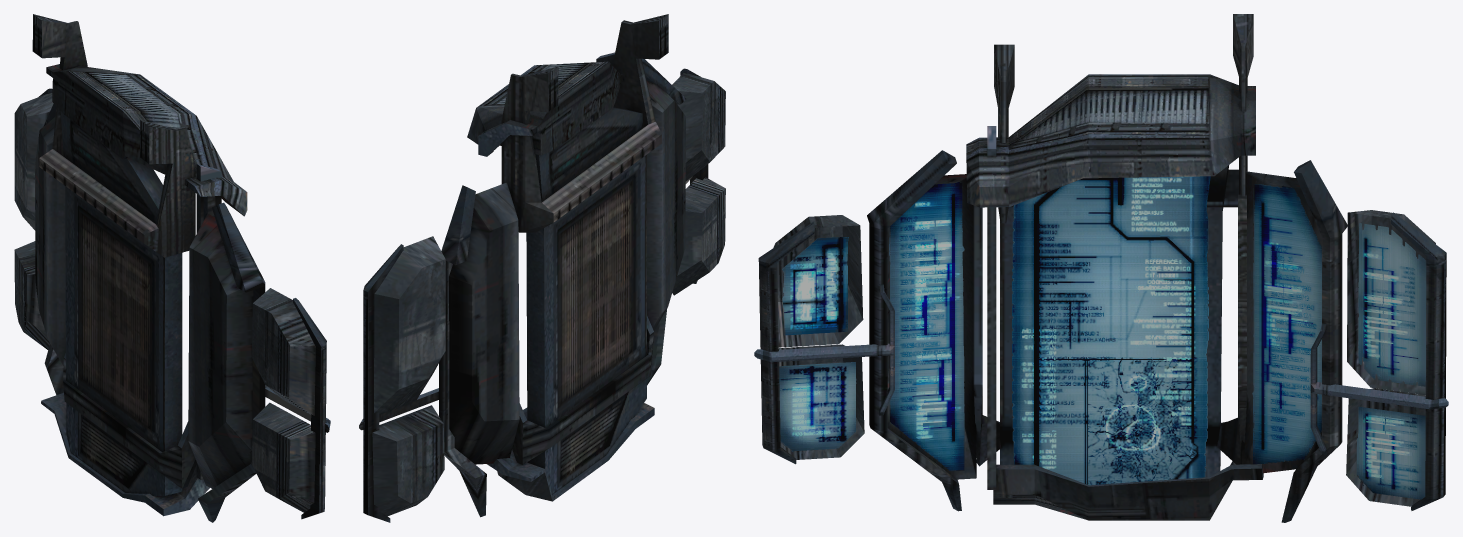
The model's file is monitor02.dae.
3 renders of one model, left to right at view 1: azimuth 30°, elevation 25°; view 2: azimuth 150°, elevation 25°; view 3: azimuth 270°, elevation 25°, orthographic. The views are drawn at different scales.
Parts seen in each view (by area): view 1: Body.combine_intmonitor001_reference.smd.mesh_0; view 2: Body.combine_intmonitor001_reference.smd.mesh_0; view 3: Body.combine_intmonitor001_reference.smd.mesh_1, Body.combine_intmonitor001_reference.smd.mesh_0.
Boxes of the visible parts, x1,y1,x2,y2 form: Body.combine_intmonitor001_reference.smd.mesh_0: (14, 14, 330, 522); Body.combine_intmonitor001_reference.smd.mesh_0: (359, 14, 725, 522); Body.combine_intmonitor001_reference.smd.mesh_1: (779, 176, 1426, 499); Body.combine_intmonitor001_reference.smd.mesh_0: (754, 14, 1448, 522).
Size of the model in its own units: 15.34 by 62.93 by 81.93.
Materials: 2 (2 with a texture image).
